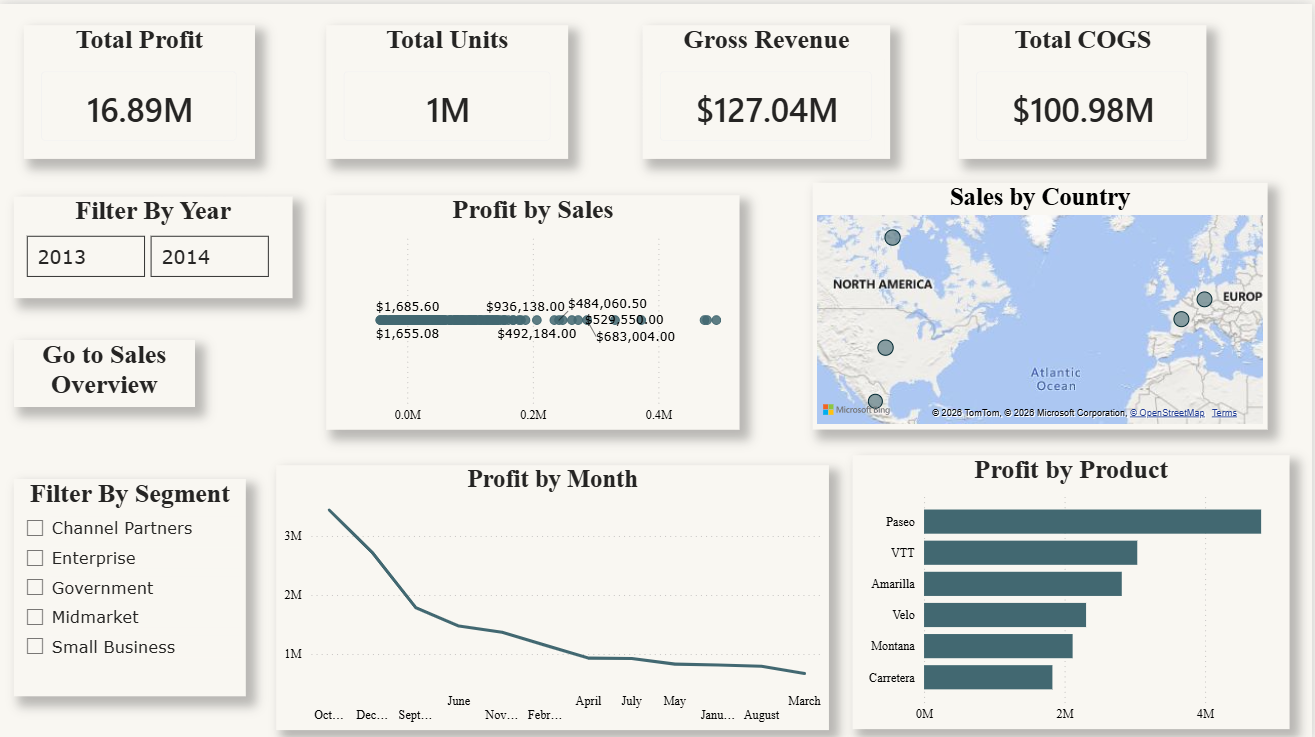

Layout of this report page (visuals, bound fields, positions):
{"tool":"powerbi","page":{"name":"Profit Analysis","canvas":[1280,800],"ordinal":2},"visuals":[{"type":"shape","box":[1.3,0,231.9,800.3],"z":0},{"type":"cardVisual","title":"Total Sales","fields":{"Data":["Sum(Financials.  Sales )"]},"box":[252,105.9,215.5,112.2],"z":1000},{"type":"cardVisual","title":"Total Profit","fields":{"Data":["Sum(Financials. Profit )"]},"box":[505.4,107.1,215.5,110.9],"z":2000},{"type":"cardVisual","title":"Total Units","fields":{"Data":["Sum(Financials. Units Sold )"]},"box":[1004.4,105.9,214.2,112.2],"z":3000},{"type":"cardVisual","title":"Gross Revenue","fields":{"Data":["Sum(Financials. Gross Sales )"]},"box":[767.5,107.1,215.5,112.2],"z":4000},{"type":"slicer","title":"Country","fields":{"Values":["Financials.Country"]},"box":[1052.3,10.1,187.8,78.1],"z":5000},{"type":"textbox","box":[8.8,641.5,216.8,92],"z":6000},{"type":"lineChart","title":"Profit  by  Month","fields":{"Y":["Sum(Financials. Profit )"],"Category":["Financials. Month Name "]},"box":[252,521.7,539.4,258.4],"z":7000},{"type":"clusteredColumnChart","title":"Profit by Segment","fields":{"Category":["Financials.Segment"],"Y":["Max(Financials. Profit )"]},"box":[252,240.7,480.2,254.6],"z":8000},{"type":"map","title":"Profit by Country","fields":{"Category":["Financials.Country"],"Size":["Sum(Financials. Profit )"]},"box":[814.1,521.7,444.9,258.4],"z":9000},{"type":"clusteredBarChart","title":"Profit  by  Product ","fields":{"Y":["Sum(Financials. Profit )"],"Category":["Financials. Product "]},"box":[770,240.7,489,254.6],"z":10000},{"type":"actionButton","box":[11.3,381.9,210.5,58],"z":11000},{"type":"actionButton","box":[11.3,308.8,210.5,59.2],"z":12000},{"type":"actionButton","box":[11.3,240.7,210.5,59.2],"z":13000},{"type":"textbox","box":[252,18.9,514.2,61.8],"z":14000},{"type":"slicer","title":"Year","fields":{"Values":["Financials.Year"]},"box":[875.9,0,165.1,97],"z":15000},{"type":"textbox","box":[0,80.7,231.9,88.2],"z":16000}]}

Visuals, with their boxes on the page's 1280x800 design canvas (x1, y1, x2, y2). These are canvas units, not pixel positions in the 1315x737 screenshot, which may show the page scaled, cropped or inside an application window:
shape: crop(1, 0, 233, 800)
"Total Sales" cardVisual: crop(252, 106, 468, 218)
"Total Profit" cardVisual: crop(505, 107, 721, 218)
"Total Units" cardVisual: crop(1004, 106, 1219, 218)
"Gross Revenue" cardVisual: crop(768, 107, 983, 219)
"Country" slicer: crop(1052, 10, 1240, 88)
textbox: crop(9, 642, 226, 734)
"Profit  by  Month" lineChart: crop(252, 522, 791, 780)
"Profit by Segment" clusteredColumnChart: crop(252, 241, 732, 495)
"Profit by Country" map: crop(814, 522, 1259, 780)
"Profit  by  Product " clusteredBarChart: crop(770, 241, 1259, 495)
actionButton: crop(11, 382, 222, 440)
actionButton: crop(11, 309, 222, 368)
actionButton: crop(11, 241, 222, 300)
textbox: crop(252, 19, 766, 81)
"Year" slicer: crop(876, 0, 1041, 97)
textbox: crop(0, 81, 232, 169)
